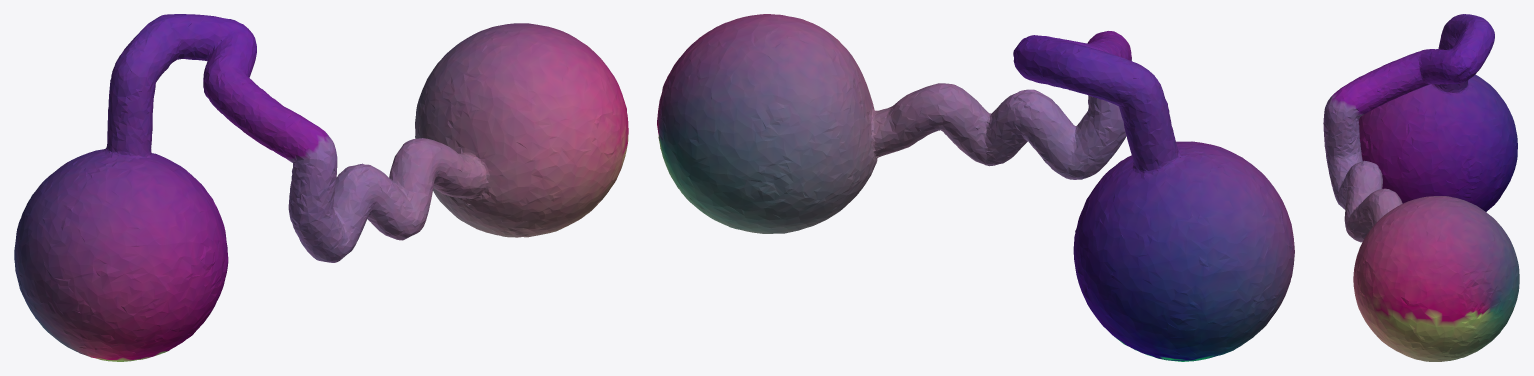
Rendered from twoballs-19.off.obj.
3 renders of one model, left to right at view 1: azimuth 30°, elevation 25°; view 2: azimuth 150°, elevation 25°; view 3: azimuth 270°, elevation 25°, orthographic. The views are drawn at different scales.
Bounding box in the file's own units: 1.72 × 0.8325 × 0.6429.
